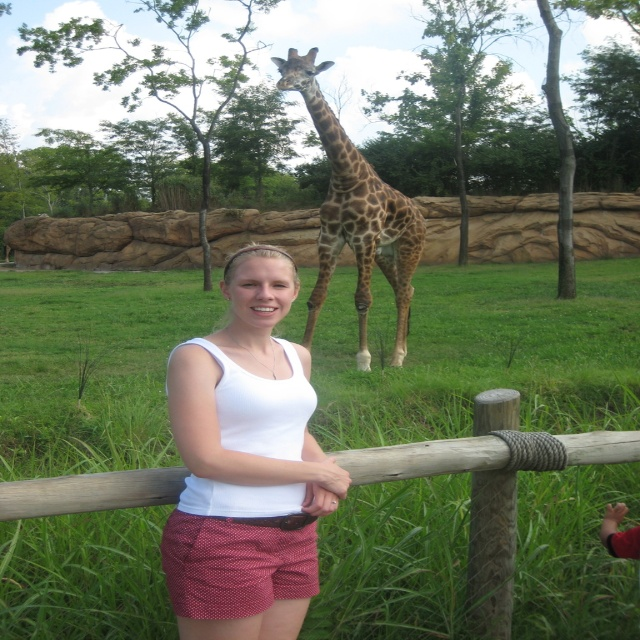Giraffe: (270, 46, 427, 371)
